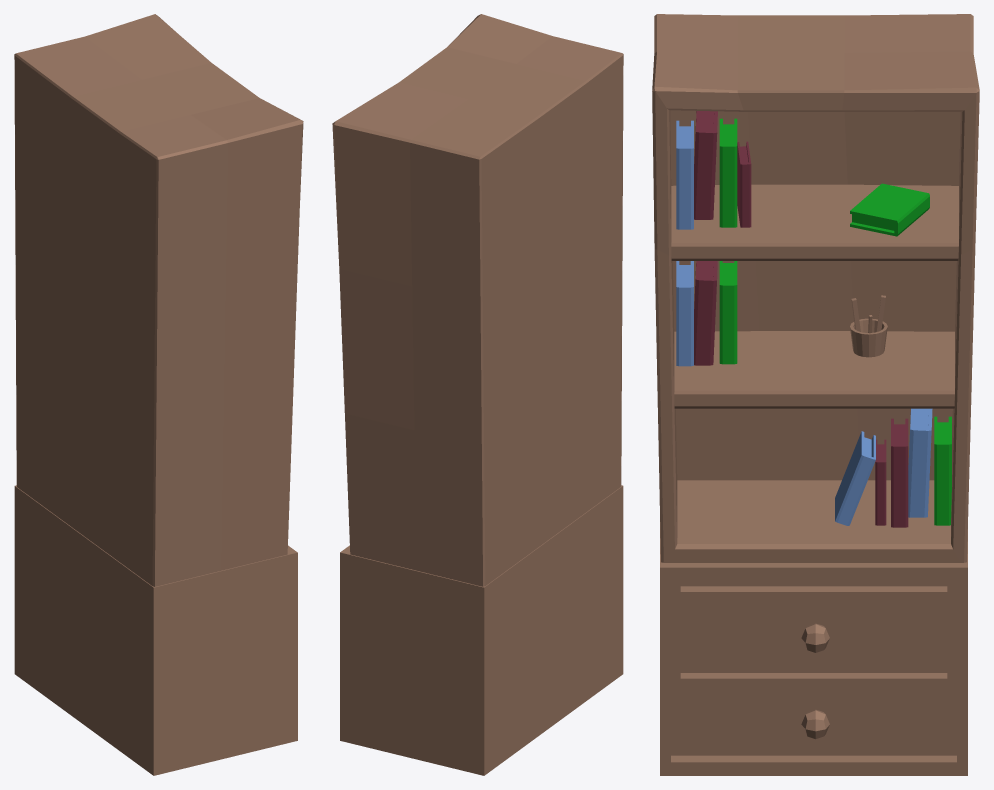
Rendered from BookCase01.fbx.
3 renders of one model, left to right at view 1: azimuth 30°, elevation 25°; view 2: azimuth 150°, elevation 25°; view 3: azimuth 270°, elevation 25°, orthographic. The views are drawn at different scales.
Visible parts, largest first — view 1: BookCase01; view 2: BookCase01; view 3: BookCase01.
Boxes of the visible parts, x1,y1,x2,y2 form: BookCase01: [14, 14, 303, 775]; BookCase01: [332, 14, 623, 775]; BookCase01: [652, 14, 979, 775].
Bounding box in the file's own units: 83.67 × 304 × 131.
